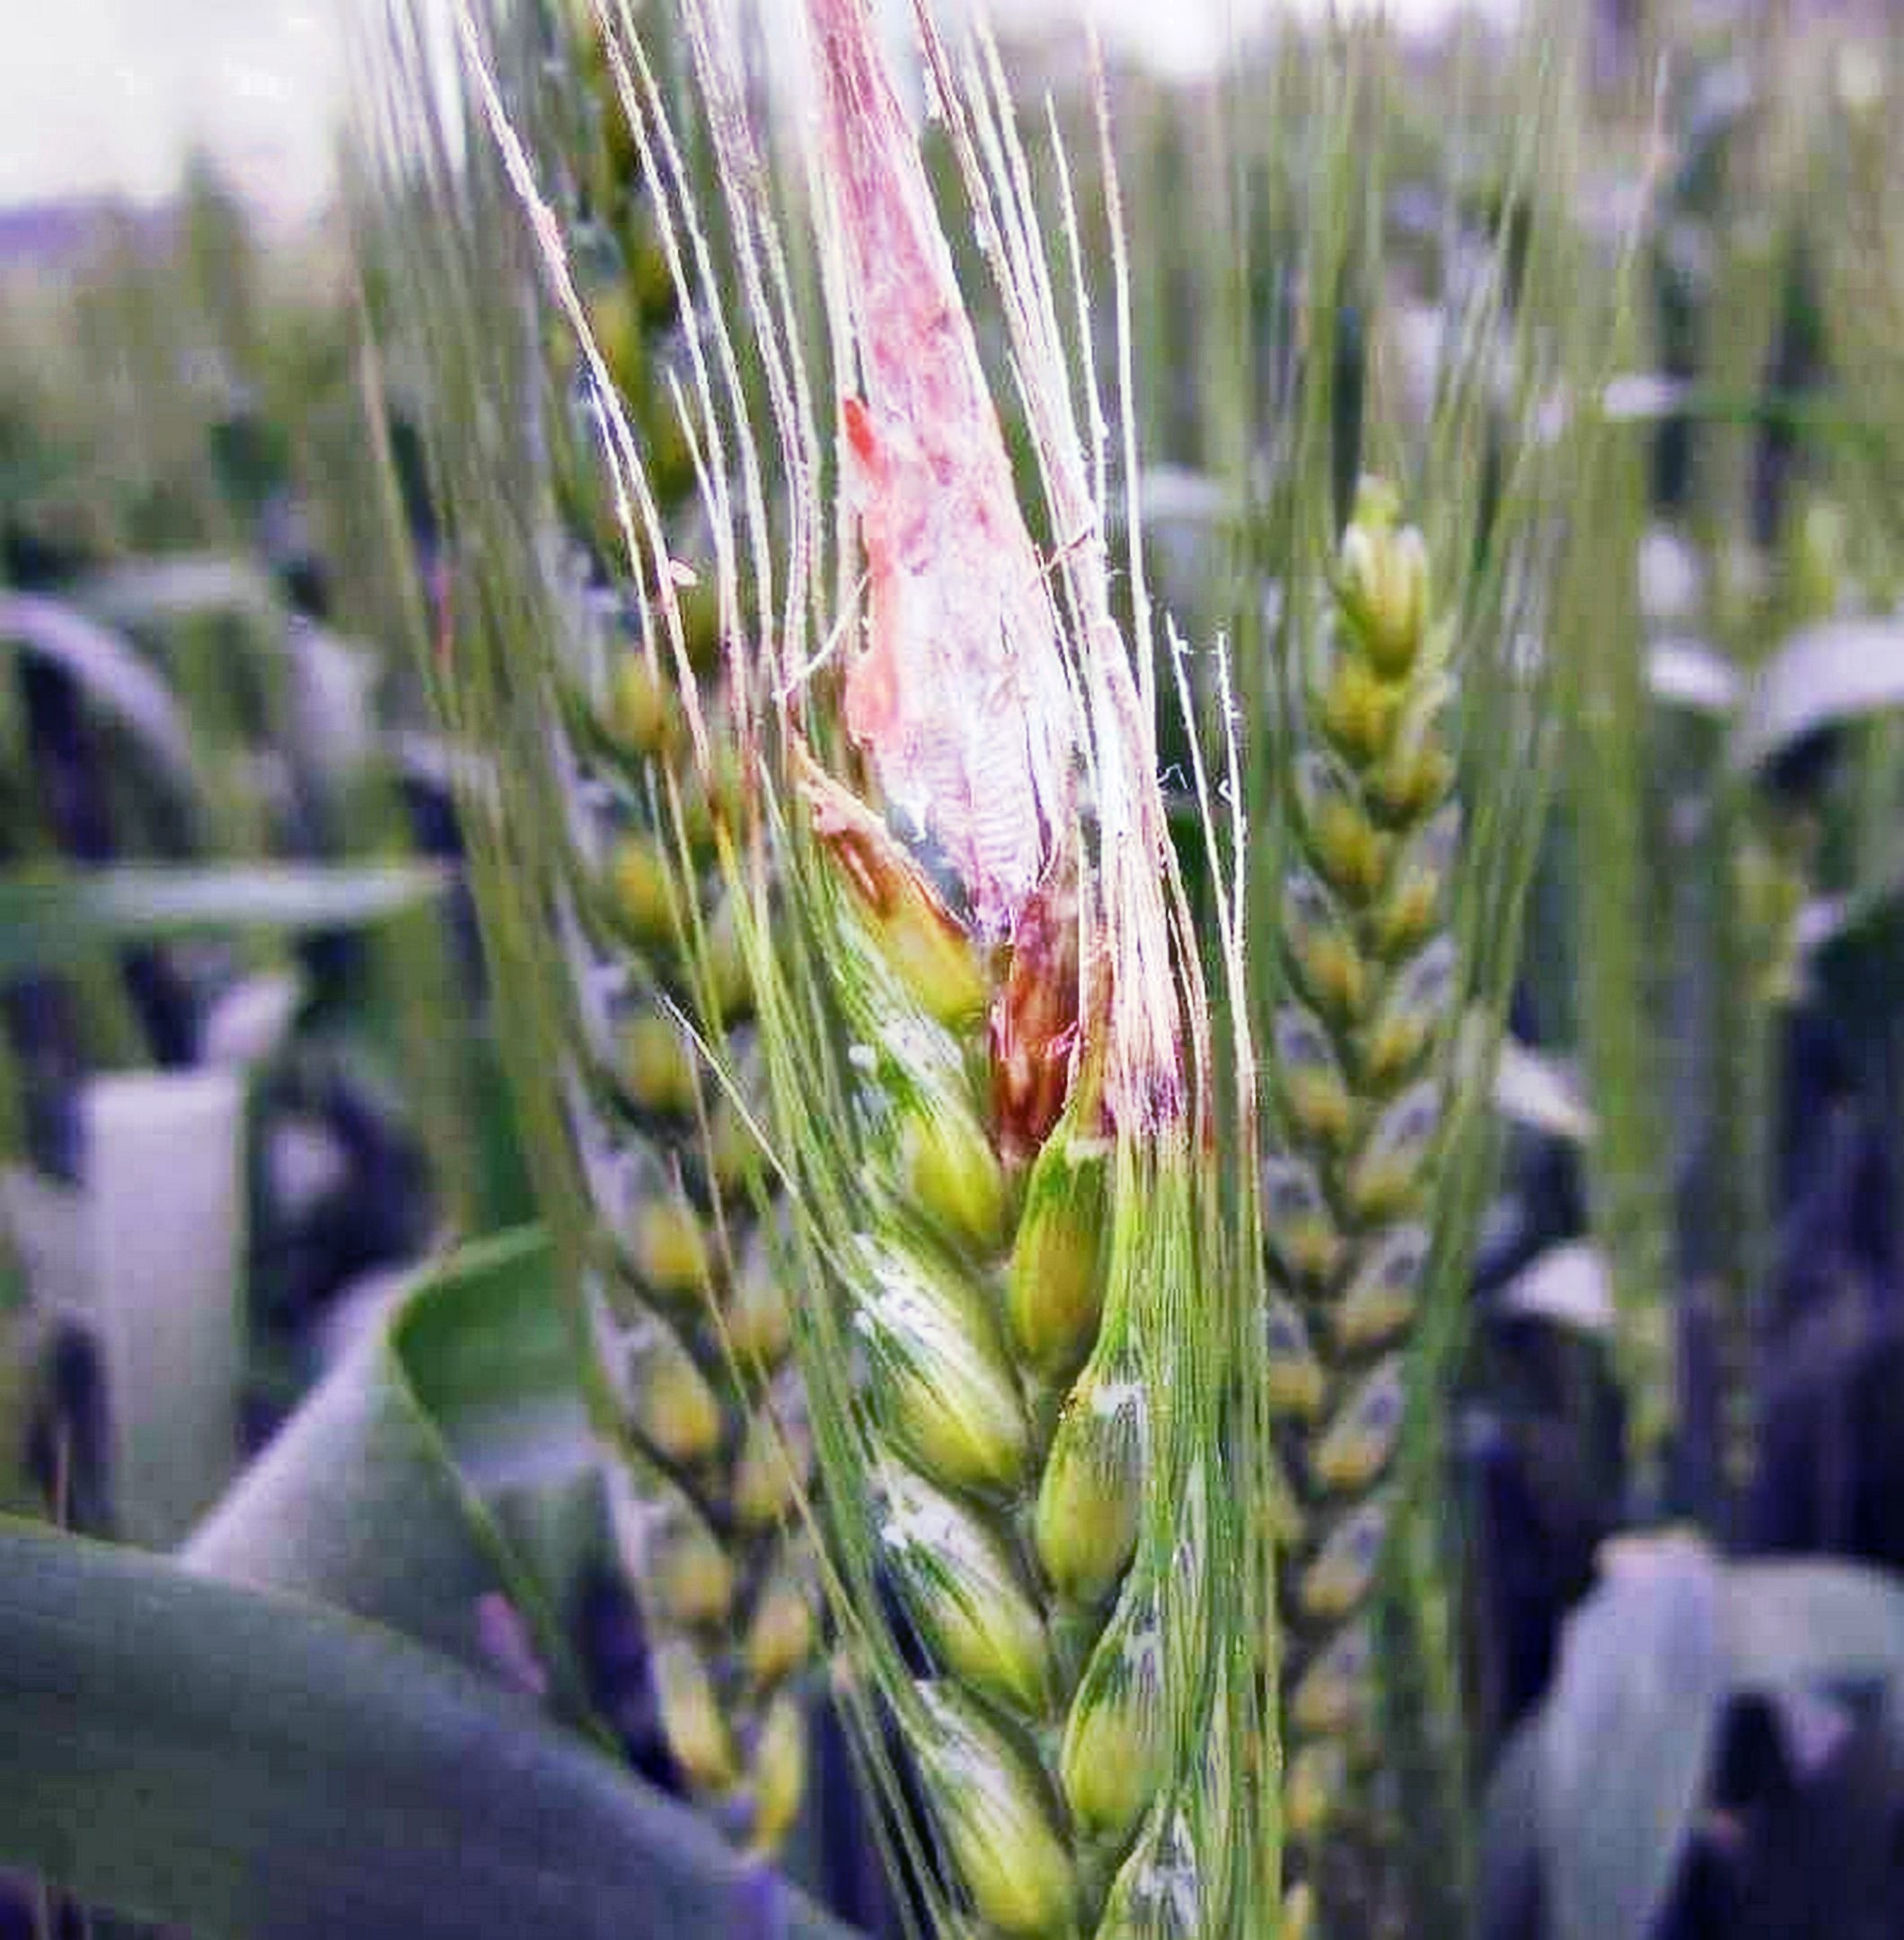Wheat scab: (692, 139, 1308, 1888)
